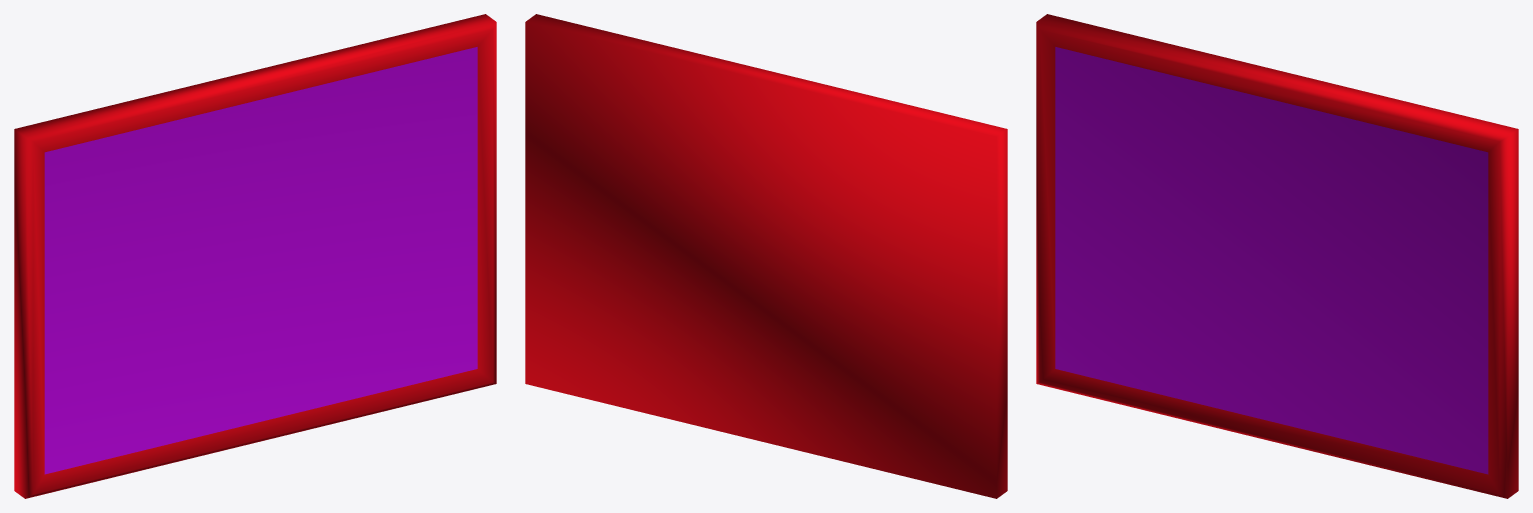
The model's file is PictureBeer.fbx.
3 views of the same model, side by side, from view 1: azimuth 30°, elevation 25°; view 2: azimuth 150°, elevation 25°; view 3: azimuth 330°, elevation 25° (orthographic).
Parts seen in each view (by area): view 1: PaintingNewUV1; view 2: PaintingNewUV1; view 3: PaintingNewUV1.
Part boxes in pixels (left/top/right/bottom): PaintingNewUV1: left=14, top=14, right=496, bottom=498; PaintingNewUV1: left=525, top=14, right=1007, bottom=498; PaintingNewUV1: left=1036, top=14, right=1518, bottom=498.
Size of the model in its own units: 266 by 195 by 12.76.
